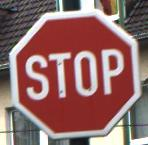Stop sign: (0, 0, 147, 144)
